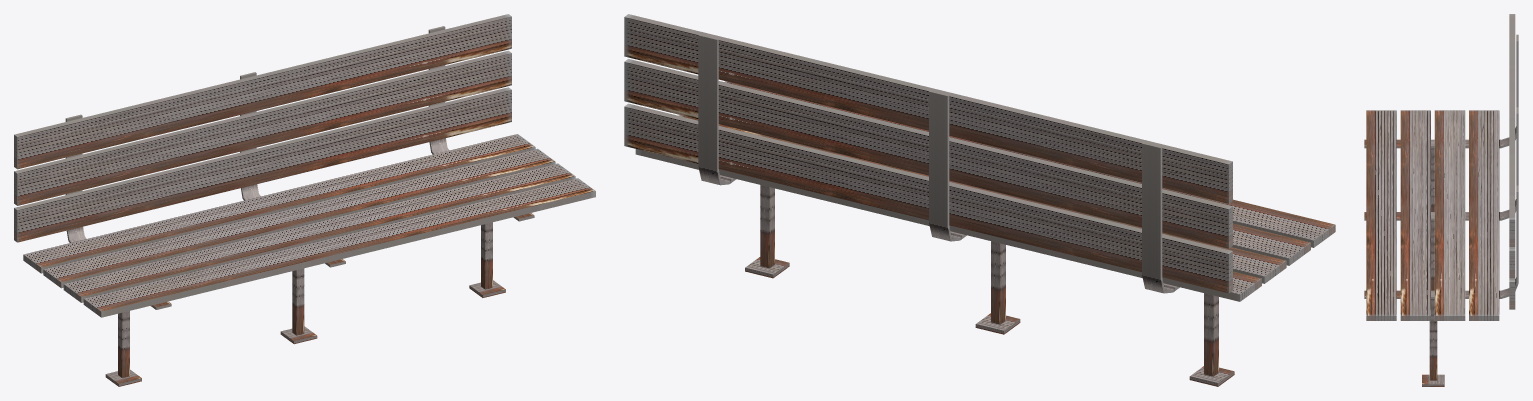
File: Bench.FBX
The picture shows the model from 3 angles, left to right: view 1: azimuth 30°, elevation 25°; view 2: azimuth 150°, elevation 25°; view 3: azimuth 270°, elevation 25°; orthographic projection. The views are drawn at different scales.
Parts seen in each view (by area): view 1: Object010; view 2: Object010; view 3: Object010.
Part boxes in pixels (bbox=[...]): Object010: bbox=[14, 14, 595, 386]; Object010: bbox=[624, 14, 1335, 386]; Object010: bbox=[1364, 14, 1518, 386].
Size of the model in its own units: 64 by 27.99 by 20.3.
Materials: 1 (1 with a texture image).
